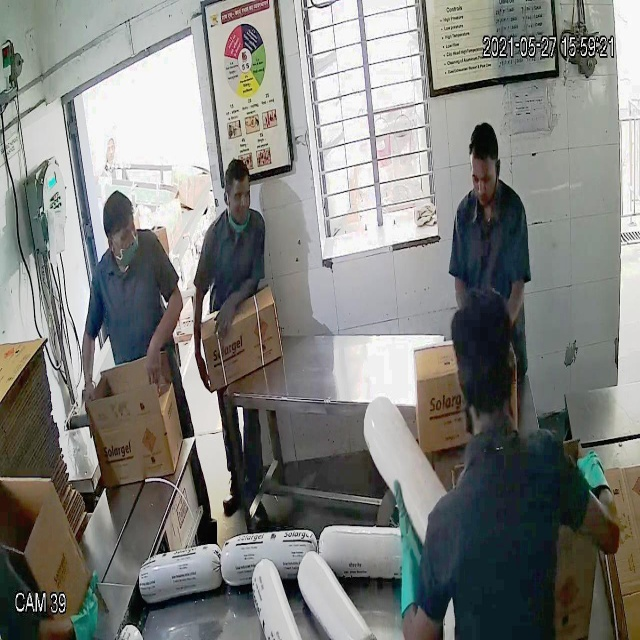Sin_gafas: (99, 220, 147, 250), (466, 164, 504, 193), (220, 186, 260, 212)
